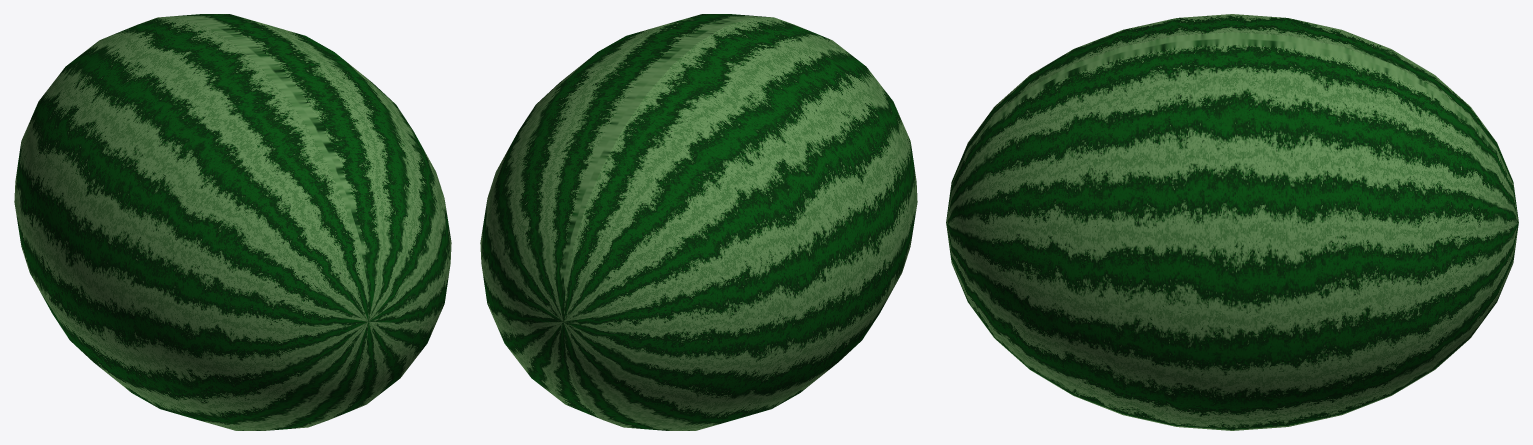
File: арбуз.fbx
The picture shows the model from 3 angles, left to right: view 1: azimuth 30°, elevation 25°; view 2: azimuth 150°, elevation 25°; view 3: azimuth 270°, elevation 25°; orthographic projection. The views are drawn at different scales.
Visible parts, largest first — view 1: Sphere.001, Sphere.003; view 2: Sphere.001, Sphere.003; view 3: Sphere.003, Sphere.001.
Part boxes in pixels (box(x1,y1,x2,y2)): Sphere.001: box(14, 17, 368, 430); Sphere.003: box(159, 14, 451, 419); Sphere.001: box(563, 17, 917, 430); Sphere.003: box(480, 14, 772, 419); Sphere.003: box(946, 32, 1518, 430); Sphere.001: box(947, 14, 1517, 214).
Bounding box in the file's own units: 200 × 200 × 273.
3 materials, 3 textured.
